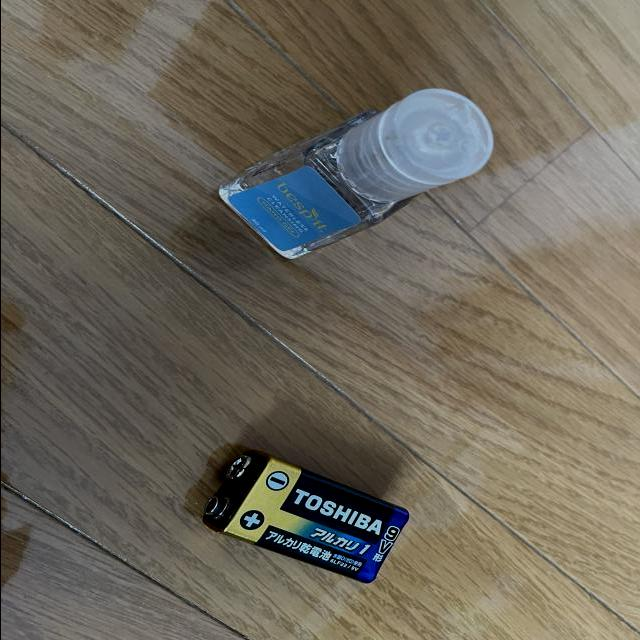9V: (200, 451, 410, 585)
